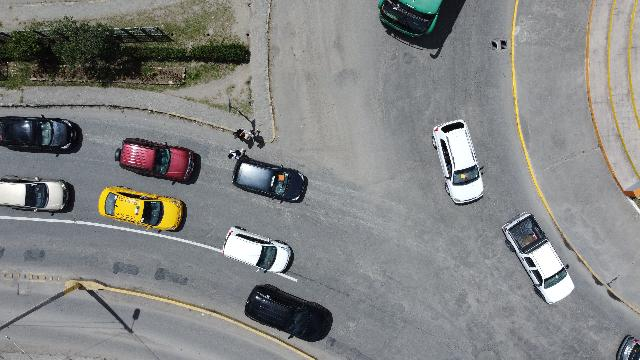Vehiculo: (502, 212, 574, 304), (245, 284, 333, 342), (432, 119, 484, 205), (228, 149, 308, 203), (98, 186, 184, 232), (115, 138, 195, 182), (222, 226, 294, 274), (0, 115, 82, 155), (0, 176, 70, 212), (378, 0, 444, 38), (616, 334, 640, 360)
